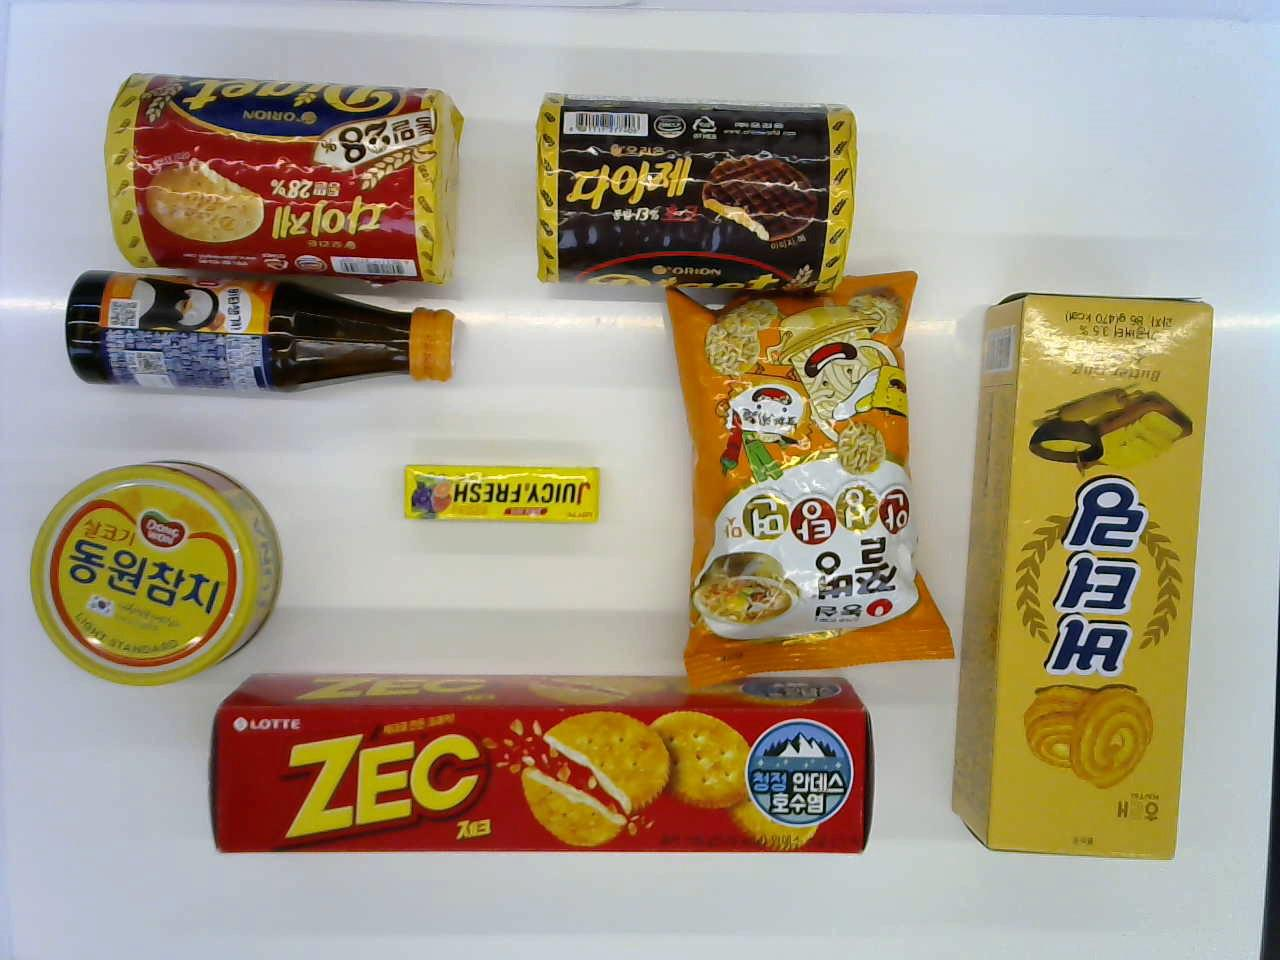buttering: (947, 284, 1223, 854)
diget_choco: (499, 89, 876, 308)
diget_ori: (97, 69, 474, 288)
jjolbyung_noodle: (677, 266, 936, 679)
juicyfresh: (406, 461, 600, 529)
tuna: (18, 458, 270, 697)
vita500: (70, 270, 463, 406)
zec: (211, 667, 884, 869)
